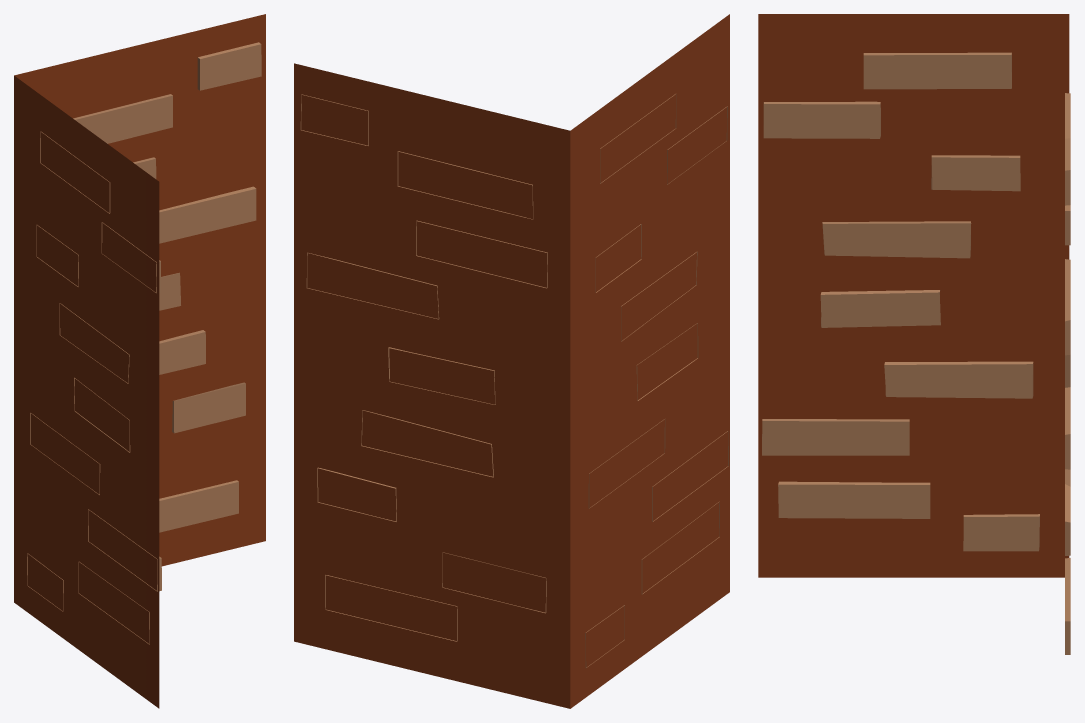
The model's file is Ext-BrickV2Corner-Inv.fbx.
3 renders of one model, left to right at view 1: azimuth 30°, elevation 25°; view 2: azimuth 150°, elevation 25°; view 3: azimuth 270°, elevation 25°, orthographic. The views are drawn at different scales.
Parts seen in each view (by area): view 1: Ext-BrickV2Corner-Inv; view 2: Ext-BrickV2Corner-Inv; view 3: Ext-BrickV2Corner-Inv.
Part boxes in pixels (bbox=[...]): Ext-BrickV2Corner-Inv: bbox=[14, 14, 265, 708]; Ext-BrickV2Corner-Inv: bbox=[294, 14, 729, 708]; Ext-BrickV2Corner-Inv: bbox=[758, 14, 1070, 654].
Bounding box in the file's own units: 100 × 200 × 100.
